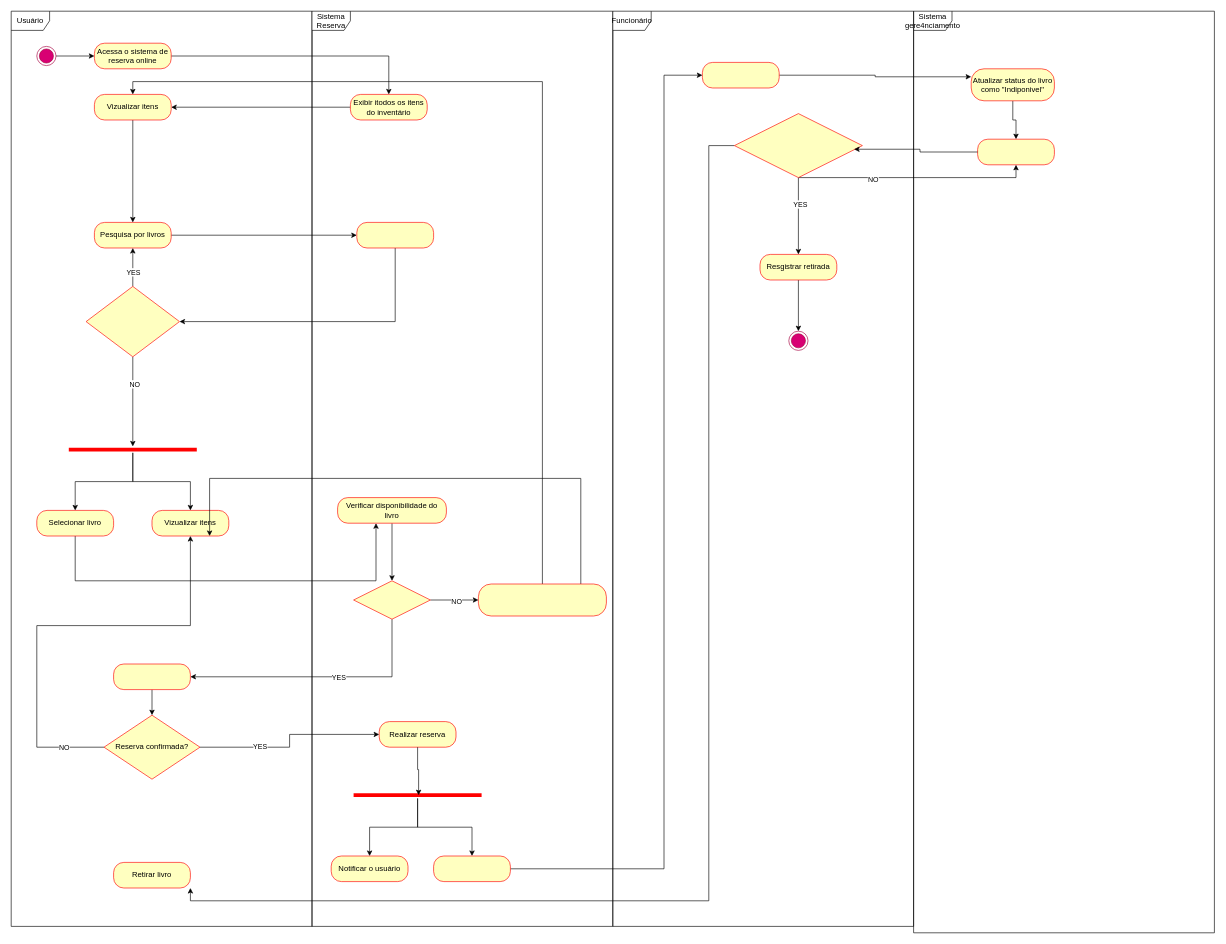
Image size: 1226x944. Some labels were removed from this diagram. The shapes that lost their labels are listed below. From the top down, each one's centre as x and y in pixels, then its label:
the point at 740,75: Preparar livro para a reserva
the point at 798,145: Retirada realizada com sucesso?
the point at 1015,152: Exibir como retirada pendente
the point at 395,235: Exibir resultados da pesquisa
the point at 132,321: Deseja pesquisar por outro livro?
the point at 391,599: Disponível?
the point at 542,599: Exibir mensagem "Sinto muito! Esse livro não está disponível""
the point at 151,676: Confirmar a reserva
the point at 471,868: Atualizar status da reserva
